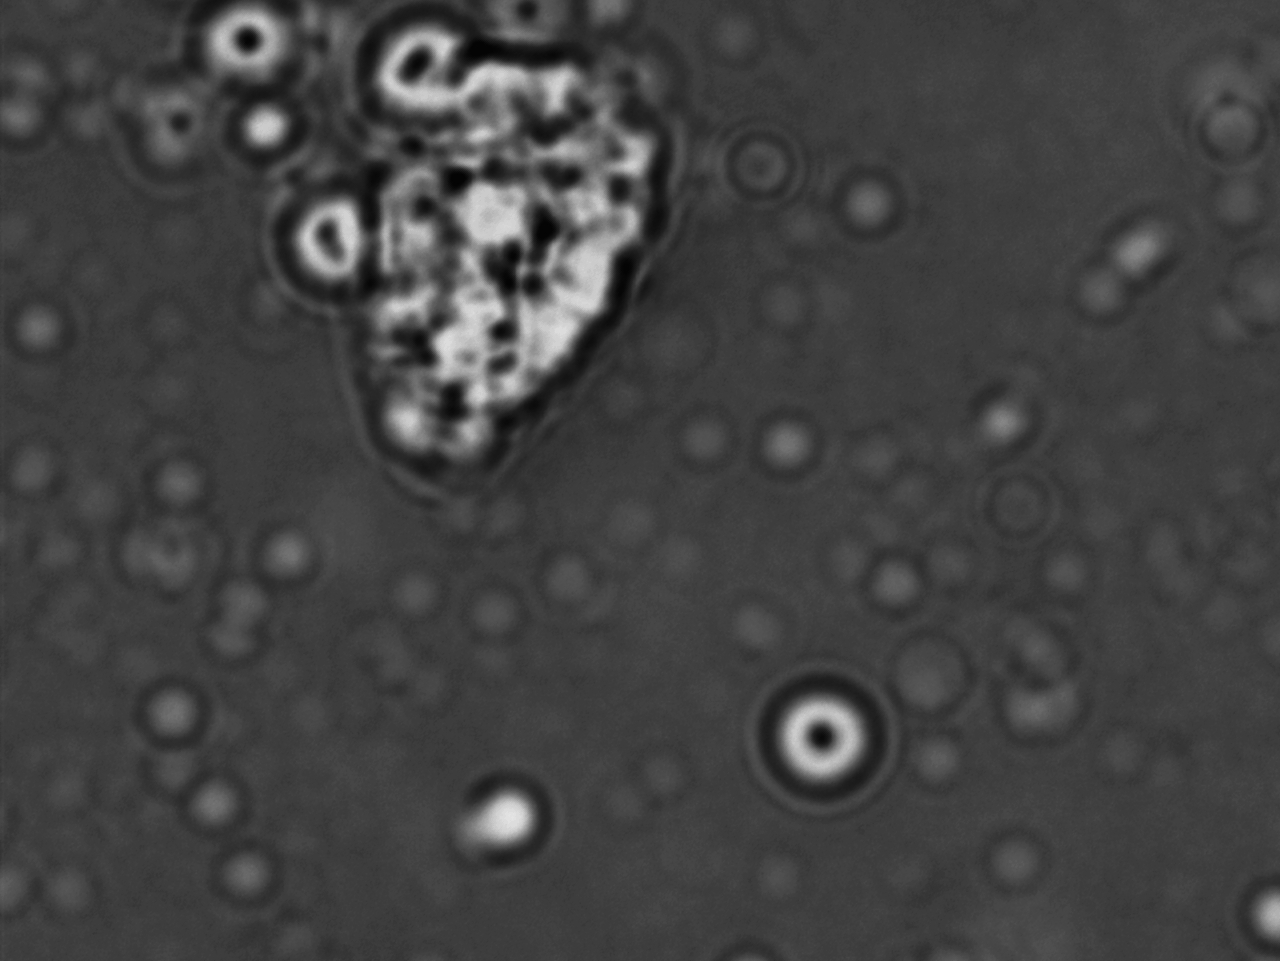depth:24: (745, 657, 909, 818)
